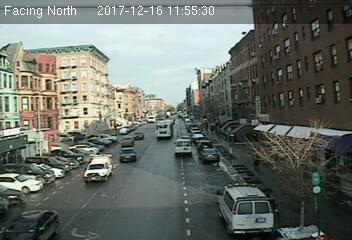bus: (155, 121, 173, 141)
car: (84, 156, 112, 182), (198, 147, 219, 164), (120, 147, 138, 163), (119, 137, 135, 147)
police: (218, 181, 276, 237)
truck: (174, 138, 193, 158)
